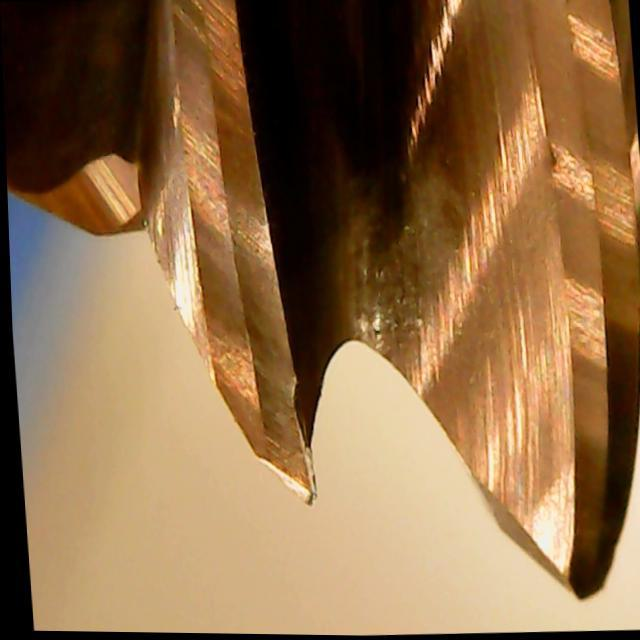Tool-wear-class-1: (194, 215, 336, 514)
